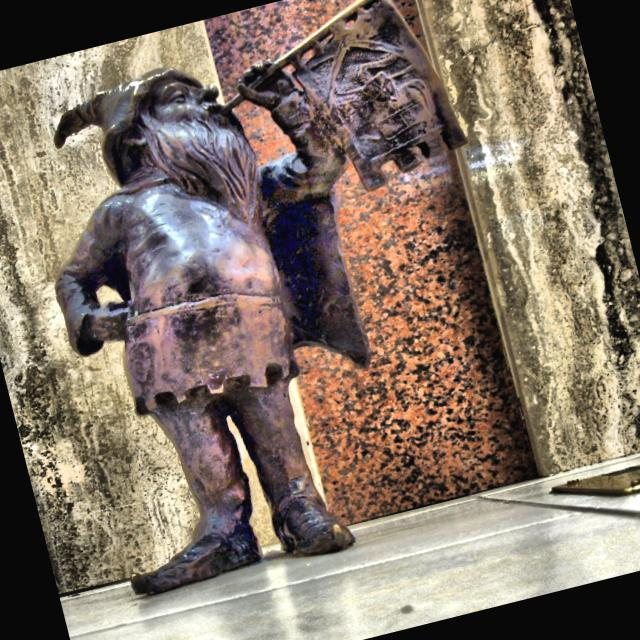Trabibrzuch: (54, 0, 465, 597)
